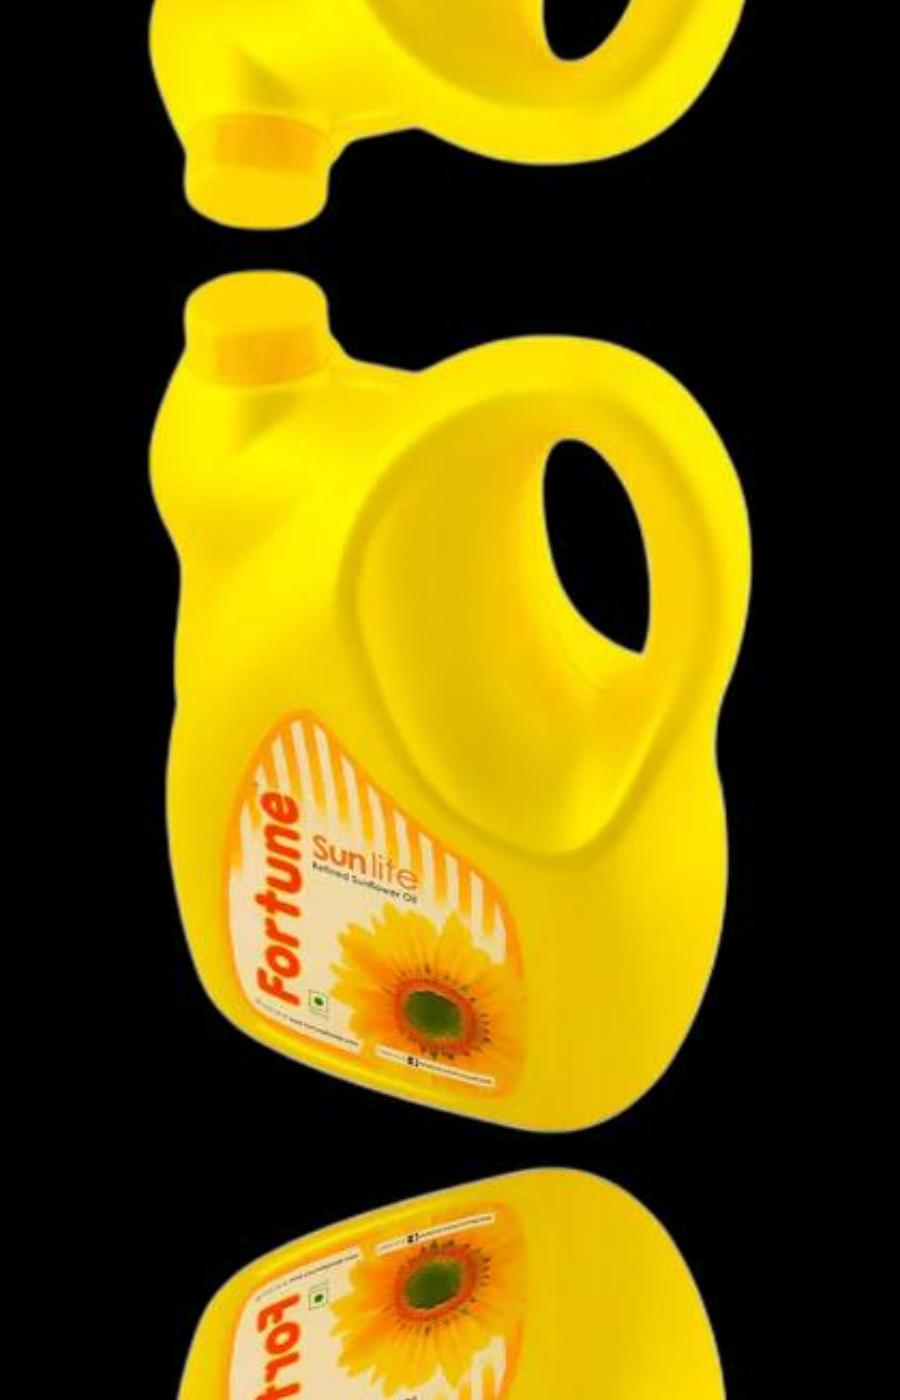Fortune Sunlite Refined Sunflower Oil 5 L: (150, 269, 764, 1137), (150, 1163, 764, 1400), (150, 0, 764, 231)
